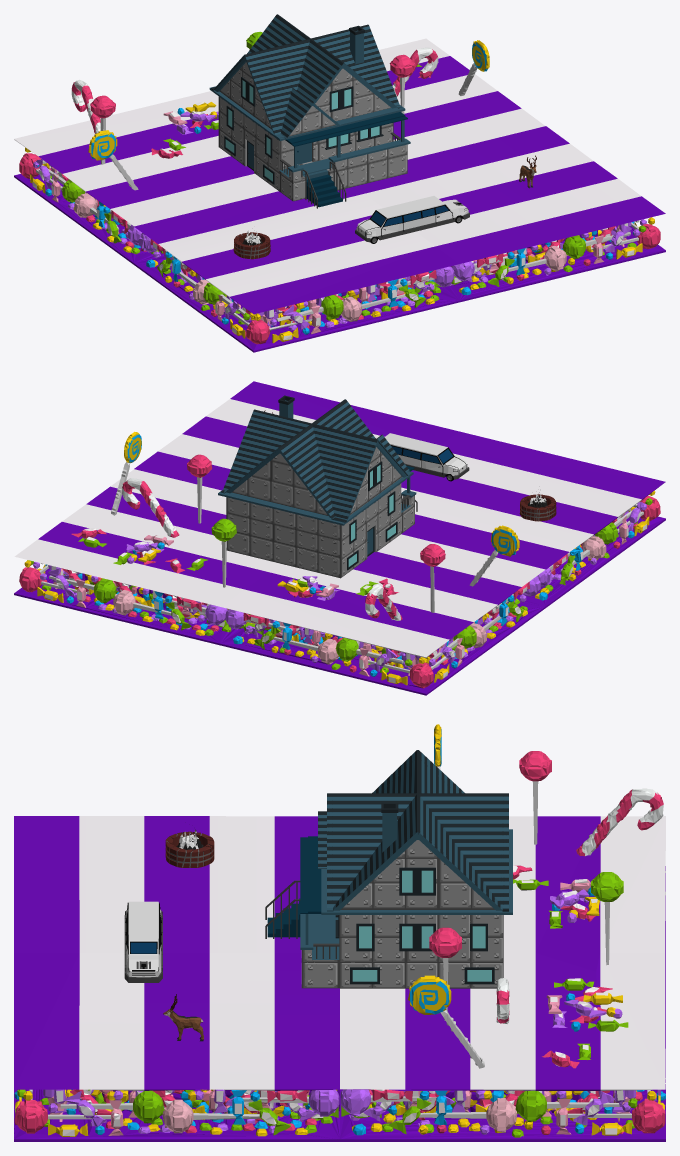
The picture shows the model from 3 angles, top to bottom: view 1: azimuth 30°, elevation 25°; view 2: azimuth 150°, elevation 25°; view 3: azimuth 270°, elevation 25°; orthographic projection. The views are drawn at different scales.
Parts seen in each view (by area): view 1: TERRAIN_CANDY, Cube.078, VEHICLES_LIMOUSINE, OBJRANDOM_CAMPFIRE; view 2: TERRAIN_CANDY, Cube.078, VEHICLES_LIMOUSINE, OBJRANDOM_CAMPFIRE; view 3: TERRAIN_CANDY, Cube.078, VEHICLES_LIMOUSINE, OBJRANDOM_CAMPFIRE.
Boxes of the visible parts, bbox=[...] form: TERRAIN_CANDY: bbox=[14, 31, 665, 352]; Cube.078: bbox=[209, 14, 410, 208]; VEHICLES_LIMOUSINE: bbox=[355, 196, 469, 243]; OBJRANDOM_CAMPFIRE: bbox=[233, 230, 270, 259]; TERRAIN_CANDY: bbox=[14, 381, 665, 695]; Cube.078: bbox=[218, 395, 417, 578]; VEHICLES_LIMOUSINE: bbox=[375, 433, 469, 481]; OBJRANDOM_CAMPFIRE: bbox=[519, 492, 556, 521]; TERRAIN_CANDY: bbox=[14, 724, 665, 1141]; Cube.078: bbox=[265, 750, 512, 988]; VEHICLES_LIMOUSINE: bbox=[124, 901, 162, 982]; OBJRANDOM_CAMPFIRE: bbox=[165, 829, 214, 867].
Size of the model in its own units: 4059 by 1736 by 4000.
Materials: 29 (4 with a texture image).
